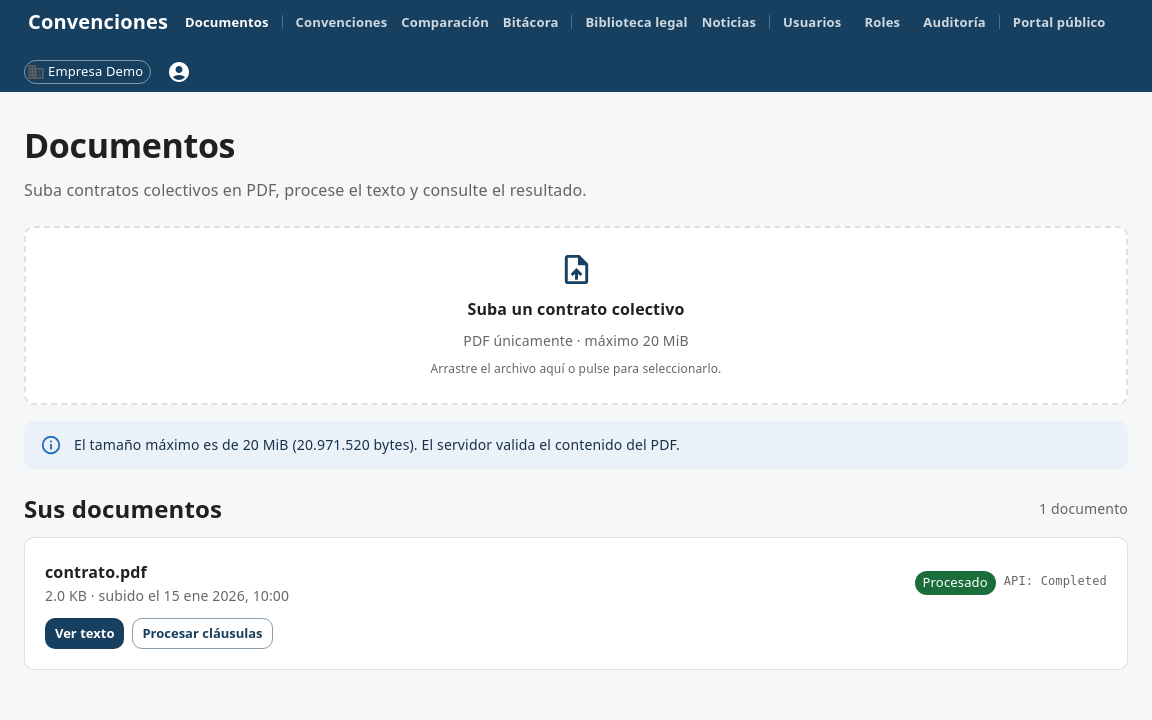
it: ClauseProcessingDialog › corrects a classification without hiding the AI source in the UI contract
Click the button "Procesar cláusulas": point(202, 633) top-left (132, 618), bottom-right (272, 649)
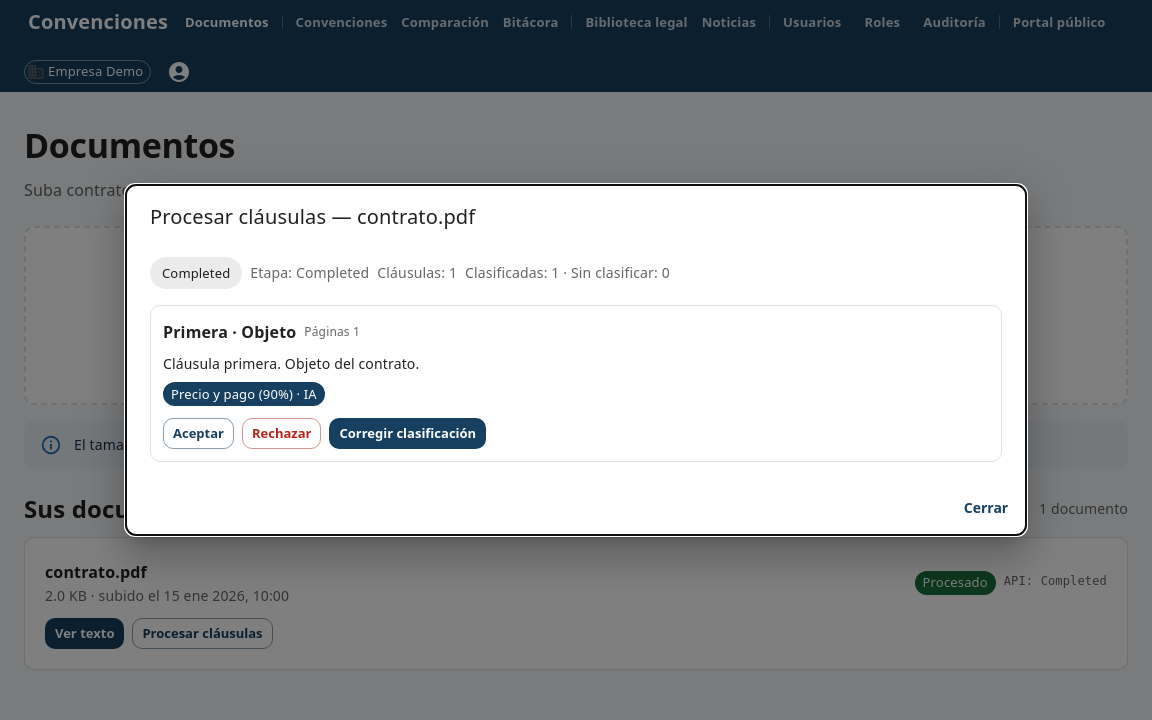
Click the button "Corregir clasificación": point(408, 434) top-left (329, 418), bottom-right (486, 449)
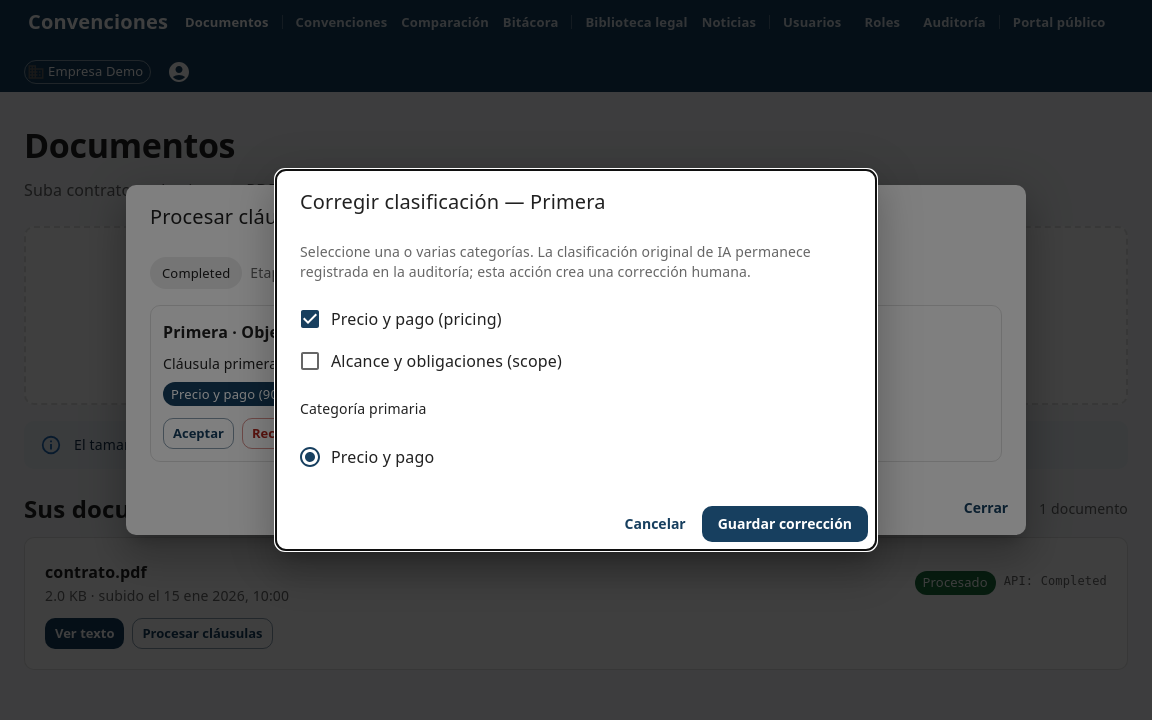
Click the checkbox labelled "Alcance y obligaciones (scope)": point(430, 361) top-left (298, 349), bottom-right (562, 373)
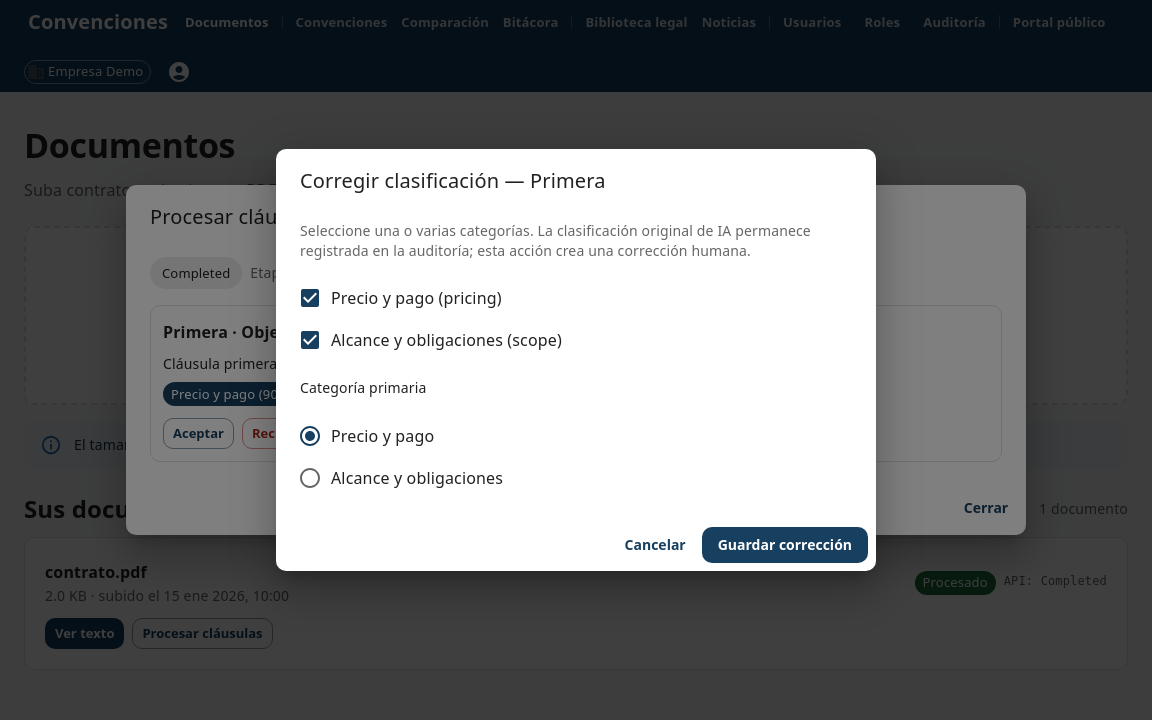
Click the radio button labelled "Alcance y obligaciones": point(400, 478) top-left (298, 466), bottom-right (503, 490)
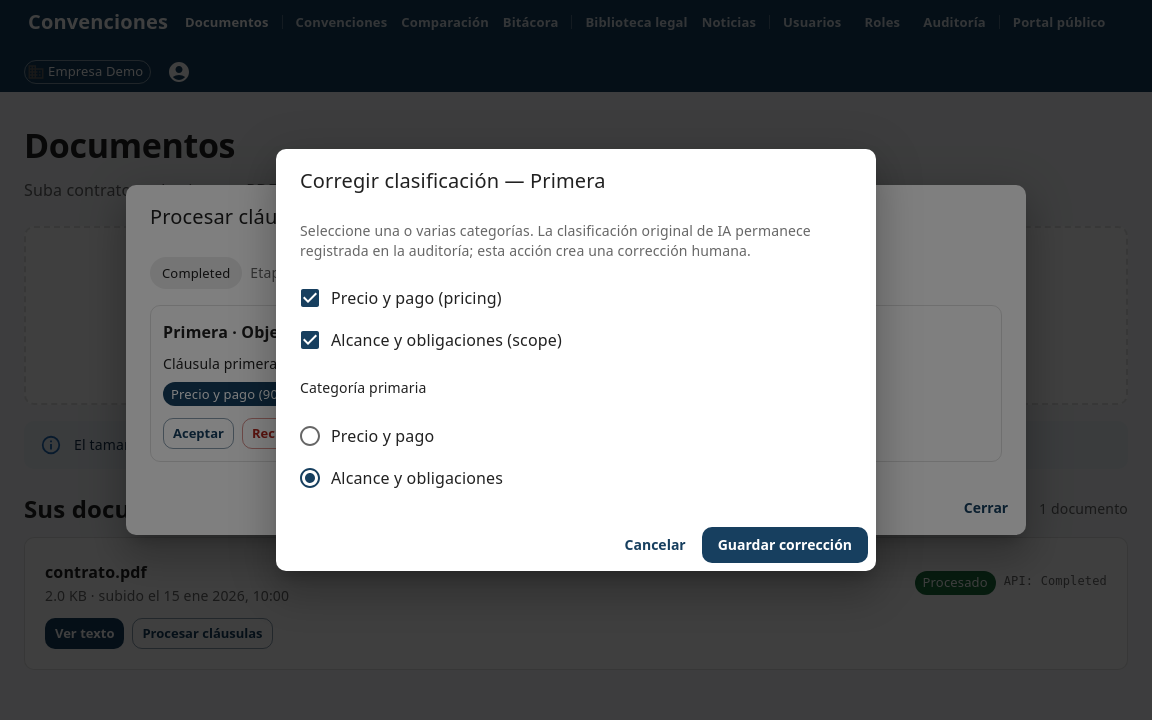
Click the button "Guardar corrección": point(785, 545) top-left (702, 527), bottom-right (868, 563)
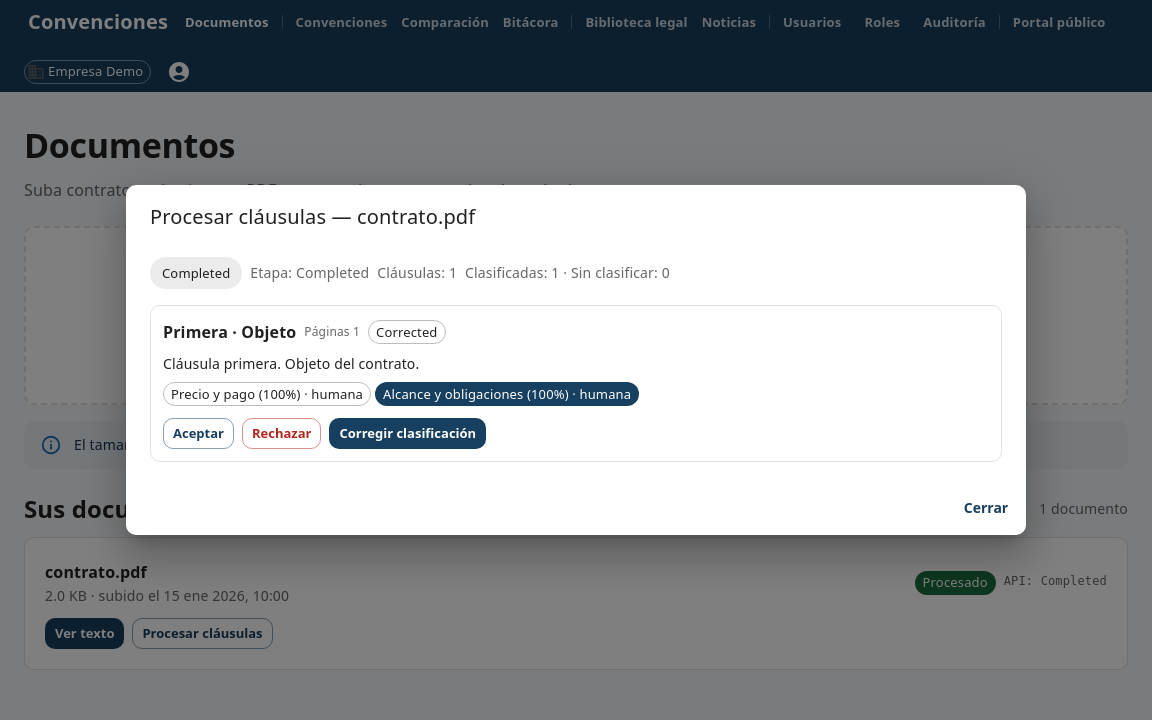
Expected: the text "Alcance y obligaciones (100%) · humana" is shown, top-left (375, 385), bottom-right (639, 404)
Expected: the text "Corrected" is shown, top-left (376, 323), bottom-right (438, 341)
